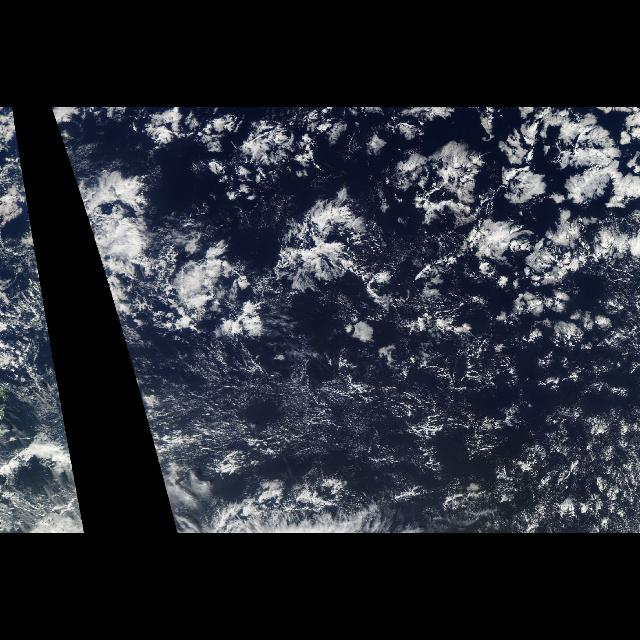Flower: (54, 112, 640, 394), (30, 216, 51, 342)
Sugar: (123, 333, 639, 527), (2, 343, 76, 471)
